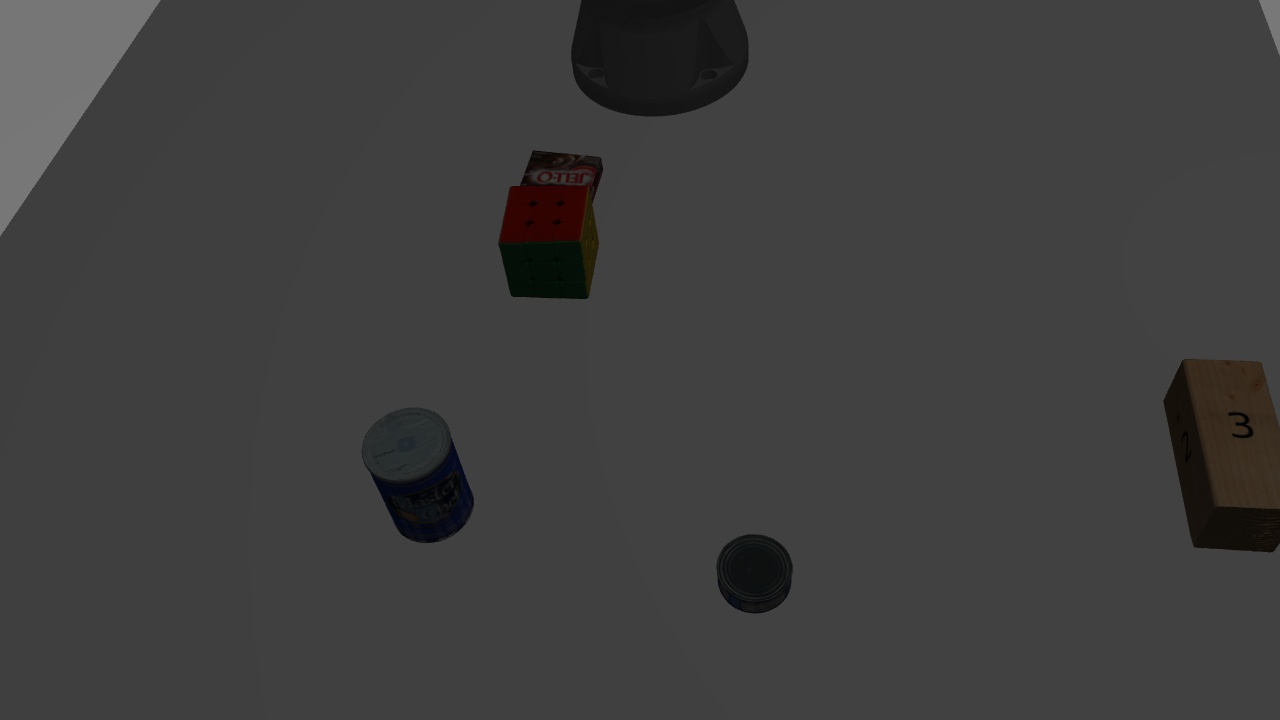master_chef_can: (355, 405, 487, 554)
pudding_box: (519, 147, 605, 205)
rubiks_cube: (495, 182, 607, 302)
tuna_fish_can: (715, 528, 798, 613)
wood_block: (1158, 348, 1278, 558)
